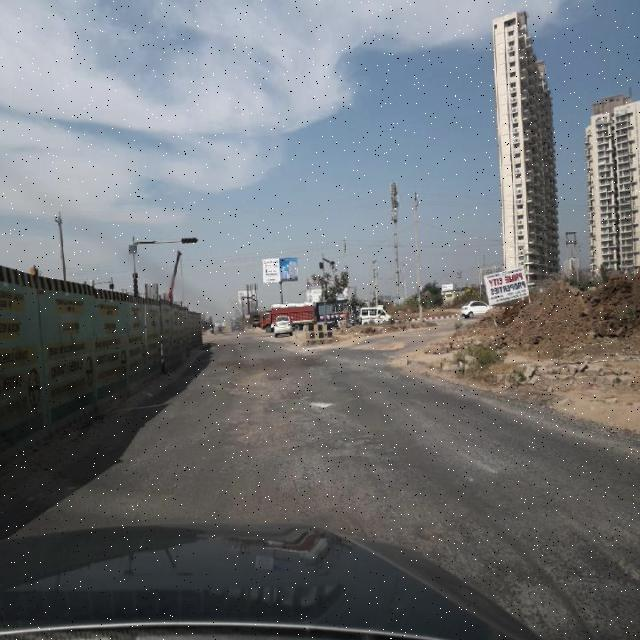D40: (220, 354, 372, 458), (508, 541, 640, 639)
